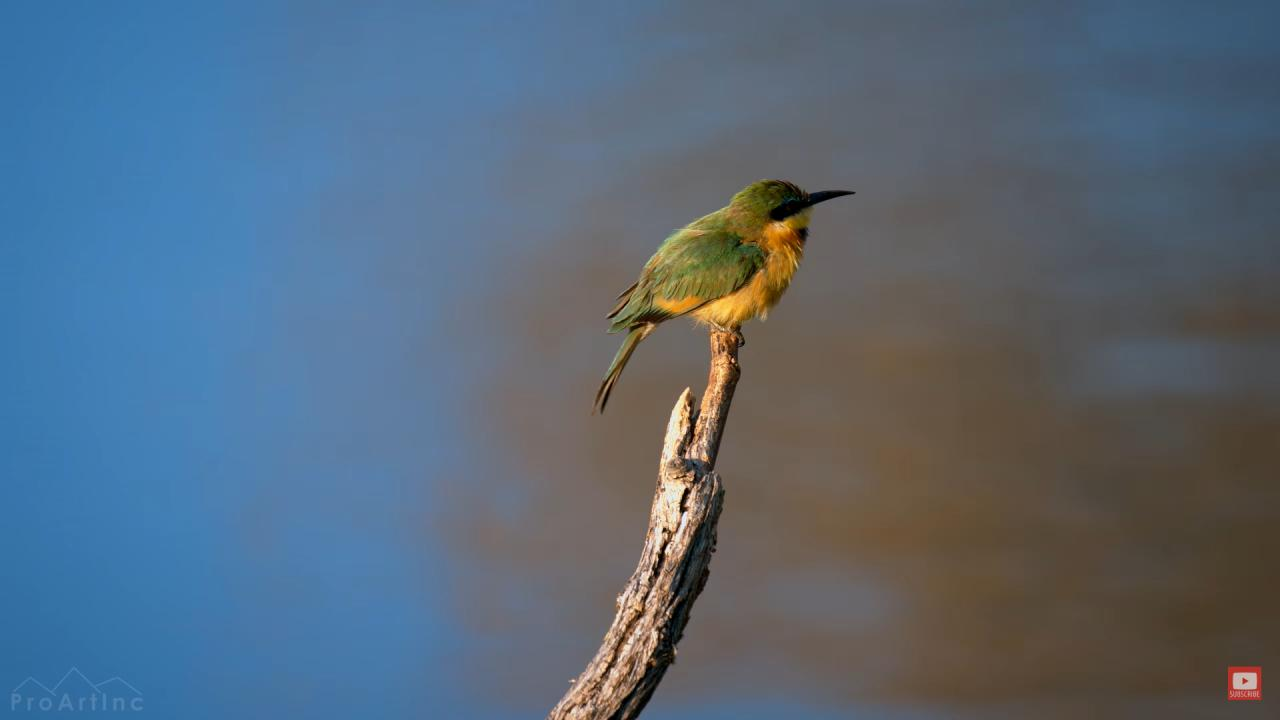Bird: (577, 162, 869, 430)
